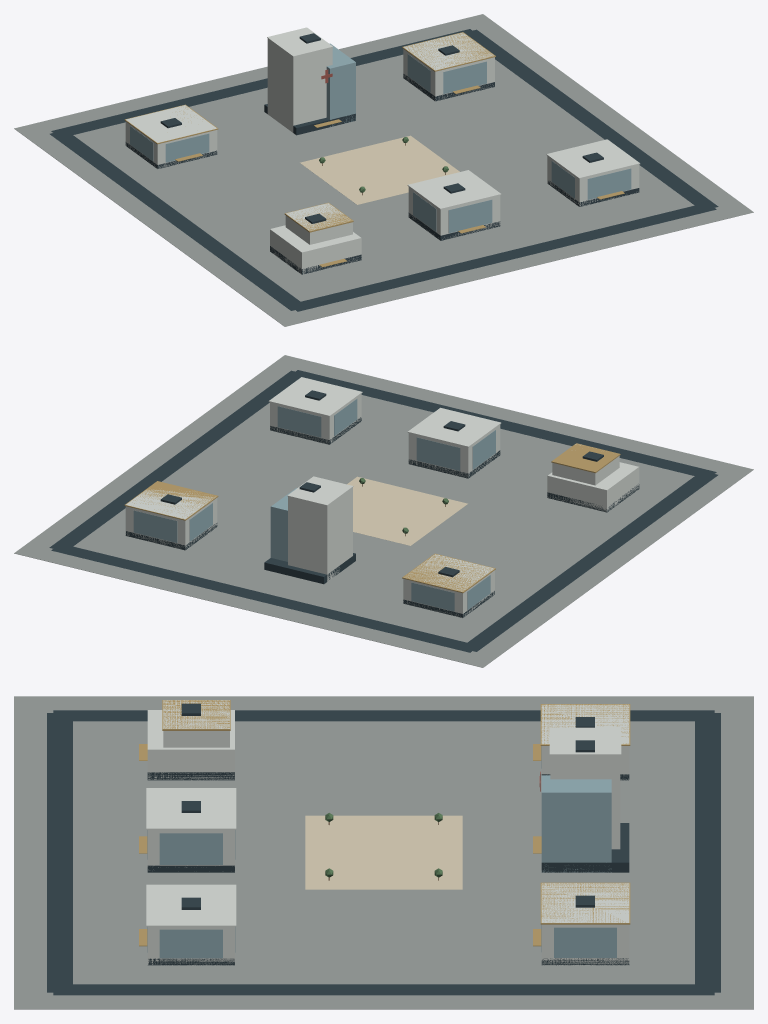
The model's file is GC-TILE-01-09.glb.
3 views of the same model, one above another, from view 1: azimuth 30°, elevation 25°; view 2: azimuth 150°, elevation 25°; view 3: azimuth 270°, elevation 25° (orthographic). The views are drawn at different scales.
Parts seen in each view (by area): view 1: GC-TILE-01-09-paving, GC-TILE-01-09-white, GC-TILE-01-09-dark, GC-TILE-01-09-glass, GC-TILE-01-09-ivory, GC-TILE-01-09-gold; view 2: GC-TILE-01-09-paving, GC-TILE-01-09-white, GC-TILE-01-09-dark, GC-TILE-01-09-glass, GC-TILE-01-09-ivory, GC-TILE-01-09-gold; view 3: GC-TILE-01-09-paving, GC-TILE-01-09-dark, GC-TILE-01-09-white, GC-TILE-01-09-glass, GC-TILE-01-09-ivory, GC-TILE-01-09-gold.
Part boxes in pixels (x1,y1,x2,y2): GC-TILE-01-09-paving: [14, 14, 753, 326]; GC-TILE-01-09-white: [125, 27, 640, 274]; GC-TILE-01-09-dark: [50, 29, 718, 311]; GC-TILE-01-09-glass: [130, 43, 631, 233]; GC-TILE-01-09-ivory: [300, 135, 459, 204]; GC-TILE-01-09-gold: [124, 32, 624, 267]; GC-TILE-01-09-paving: [14, 355, 753, 667]; GC-TILE-01-09-white: [125, 377, 639, 617]; GC-TILE-01-09-dark: [49, 370, 717, 652]; GC-TILE-01-09-glass: [133, 399, 495, 611]; GC-TILE-01-09-ivory: [347, 476, 467, 545]; GC-TILE-01-09-gold: [124, 443, 620, 593]; GC-TILE-01-09-paving: [14, 696, 753, 1009]; GC-TILE-01-09-dark: [47, 703, 720, 995]; GC-TILE-01-09-white: [146, 700, 629, 965]; GC-TILE-01-09-glass: [147, 746, 616, 958]; GC-TILE-01-09-ivory: [305, 815, 462, 889]; GC-TILE-01-09-gold: [139, 700, 630, 946].
Bounding box in the file's own units: 338 × 54.48 × 338.
